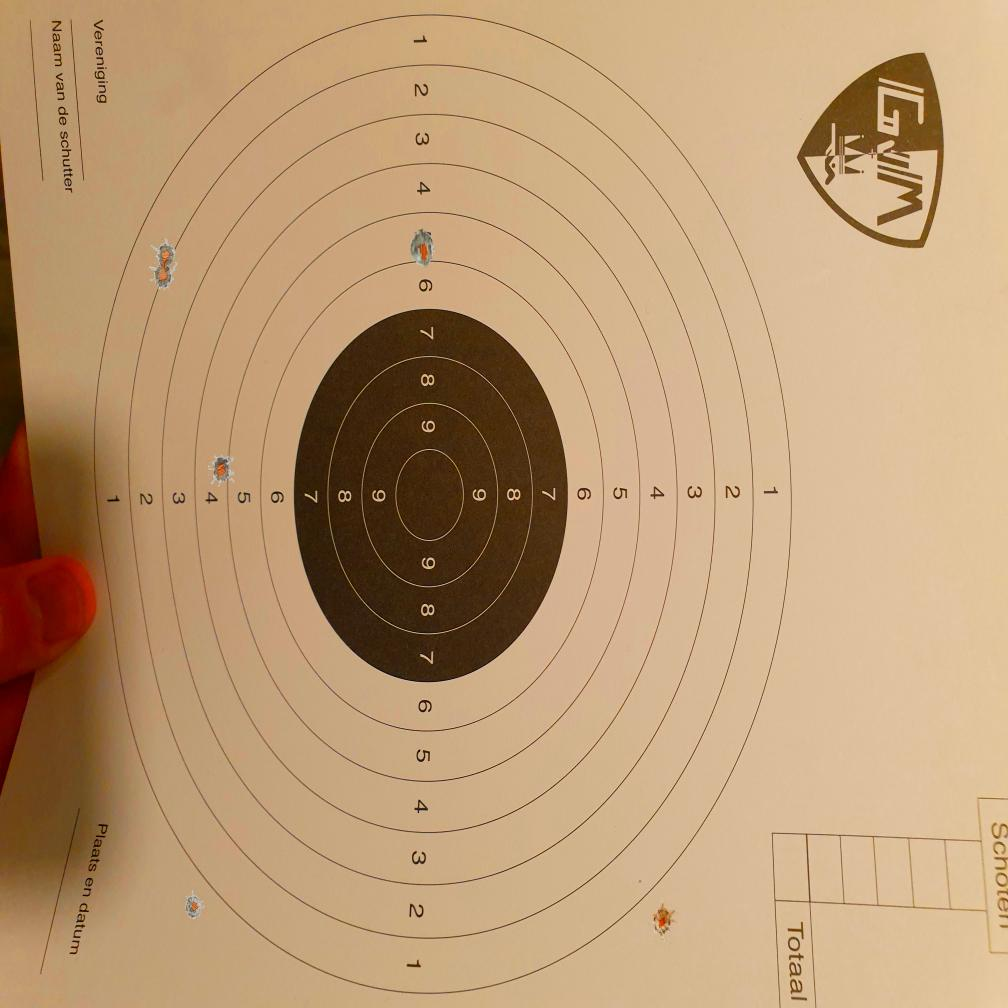0: (652, 903, 677, 941), (185, 891, 205, 920)
2: (150, 238, 178, 264), (150, 264, 176, 290)
5: (209, 454, 235, 487)
6: (410, 230, 434, 267)
Target: (95, 13, 793, 998)
black_contour: (295, 310, 567, 684)
